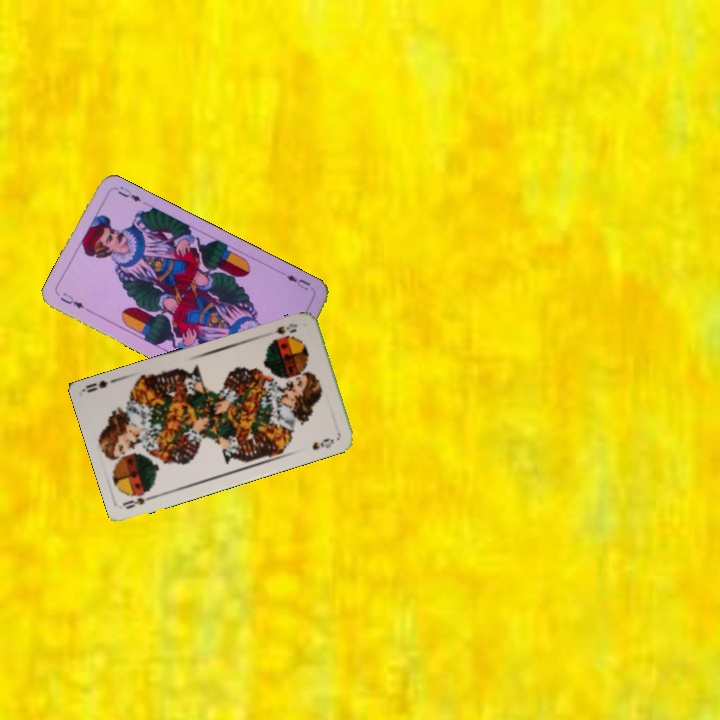EU: (56, 288, 87, 311), (282, 271, 313, 293)
SO: (119, 490, 160, 512), (268, 319, 300, 343)
